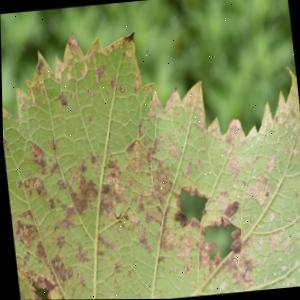Folha: (0, 9, 300, 300)
Fungo: (2, 116, 248, 300), (218, 242, 258, 290), (12, 169, 45, 199), (26, 139, 46, 174), (218, 200, 238, 228), (133, 222, 150, 253), (224, 227, 241, 253), (70, 240, 87, 263), (170, 205, 185, 227), (91, 62, 105, 83), (55, 90, 66, 106), (106, 74, 116, 90), (85, 148, 95, 164), (82, 85, 93, 98), (31, 82, 39, 92), (116, 83, 123, 91)
